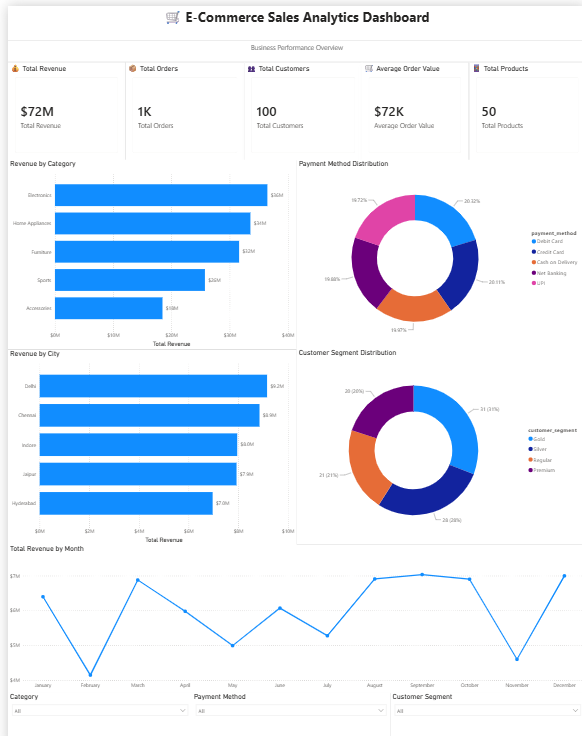

Layout of this report page (visuals, bound fields, positions):
{"tool":"powerbi","page":{"name":"Page 1","canvas":[1400,1800],"ordinal":0},"visuals":[{"type":"cardVisual","title":"💰 Total Revenue","fields":{"Data":["Measures (2).Total Revenue"]},"box":[0,135.3,284.3,237.3],"z":0},{"type":"cardVisual","title":"📦 Total Orders","fields":{"Data":["Measures (2).Total Orders"]},"box":[284.3,135.3,288.2,237.3],"z":1},{"type":"cardVisual","title":"👥 Total Customers","fields":{"Data":["Measures (2).Total Customers"]},"box":[572.5,135.3,286.3,237.3],"z":2},{"type":"cardVisual","title":"🛒 Average Order Value","fields":{"Data":["Measures (2).Average Order Value"]},"box":[858.8,135.3,258.8,237.3],"z":3},{"type":"clusteredBarChart","title":"Revenue by Category","fields":{"Category":["categories.category_name"],"Y":["Measures (2).Total Revenue"]},"box":[0,372.5,700,458.8],"z":4},{"type":"donutChart","title":"Payment Method Distribution","fields":{"Y":["Measures (2).Total Payments"],"Category":["payments.payment_method"]},"box":[700,372.5,700,458.8],"z":5},{"type":"clusteredBarChart","title":"Revenue by City","fields":{"Category":["orders.shipping_city"],"Y":["Measures (2).Total Revenue"]},"box":[0,833.3,700,473.3],"z":6},{"type":"donutChart","title":"Customer Segment Distribution","fields":{"Category":["customers.customer_segment"],"Y":["Measures (2).Total Customers"]},"box":[700,831.7,700,475],"z":7},{"type":"slicer","title":"Category","fields":{"Values":["categories.category_name"]},"box":[0,1665,446.7,135],"z":8},{"type":"slicer","title":"Payment Method","fields":{"Values":["payments.payment_method"]},"box":[446.7,1665,481.7,135],"z":9},{"type":"slicer","title":"Customer Segment","fields":{"Values":["customers.customer_segment"]},"box":[928.3,1665,471.7,135],"z":10},{"type":"lineChart","fields":{"Y":["Measures (2).Total Revenue"],"Category":["orders.order_date.Variation.Date Hierarchy.Month"]},"box":[0,1305.9,1400,358.8],"z":11},{"type":"textbox","box":[0,0,1400,84.3],"z":12},{"type":"textbox","box":[0,85,1400,50],"z":13},{"type":"cardVisual","title":"📱 Total Products","fields":{"Data":["Measures (2).Total Products"]},"box":[1117.6,135.3,282.4,237.3],"z":14}]}

Visuals, with their boxes in screenshot pixels (x1, y1, x2, y2), scaled from the page's 1400x1800 canvas onto the 582x736 screenshot:
"💰 Total Revenue" cardVisual: bbox(0, 55, 118, 152)
"📦 Total Orders" cardVisual: bbox(118, 55, 238, 152)
"👥 Total Customers" cardVisual: bbox(238, 55, 357, 152)
"🛒 Average Order Value" cardVisual: bbox(357, 55, 465, 152)
"Revenue by Category" clusteredBarChart: bbox(0, 152, 291, 340)
"Payment Method Distribution" donutChart: bbox(291, 152, 581, 340)
"Revenue by City" clusteredBarChart: bbox(0, 341, 291, 534)
"Customer Segment Distribution" donutChart: bbox(291, 340, 581, 534)
"Category" slicer: bbox(0, 681, 186, 735)
"Payment Method" slicer: bbox(186, 681, 386, 735)
"Customer Segment" slicer: bbox(386, 681, 581, 735)
lineChart - Measures (2).Total Revenue x orders.order_date.Variation.Date Hierarchy.Month: bbox(0, 534, 581, 681)
textbox: bbox(0, 0, 581, 34)
textbox: bbox(0, 35, 581, 55)
"📱 Total Products" cardVisual: bbox(465, 55, 581, 152)
